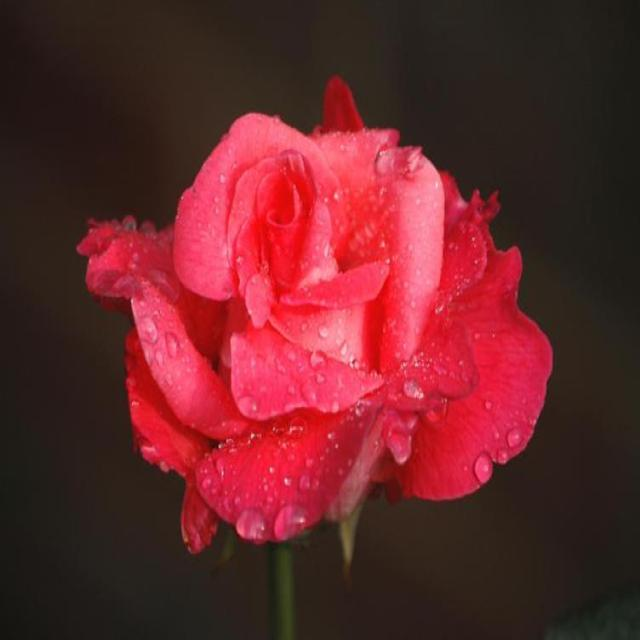rose: (66, 56, 552, 553)
